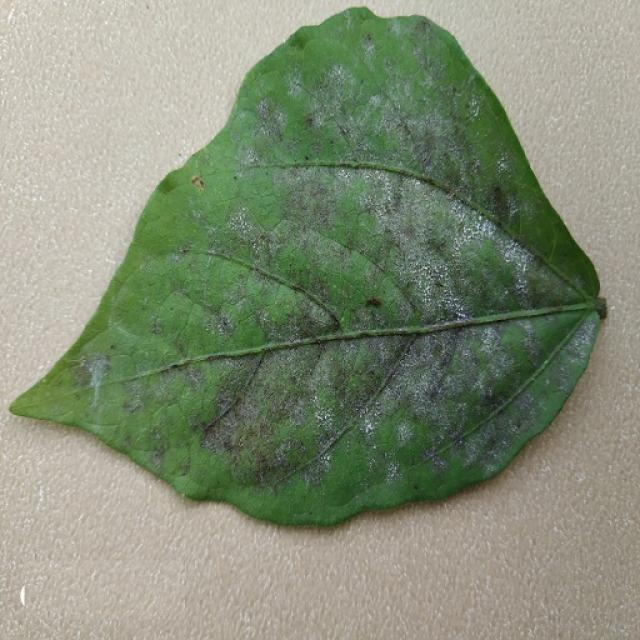Blackgram: (11, 9, 605, 524)
Powdery_Mildew: (381, 318, 540, 453), (299, 48, 470, 170), (434, 42, 552, 210), (109, 332, 252, 470), (263, 220, 396, 326), (129, 275, 254, 361), (128, 177, 240, 267), (264, 171, 381, 251), (290, 339, 386, 431), (405, 242, 509, 317), (433, 205, 516, 279), (396, 245, 472, 325), (303, 58, 377, 135), (96, 316, 166, 375), (238, 428, 313, 482), (258, 283, 326, 336), (278, 174, 338, 220), (381, 414, 435, 462), (345, 336, 394, 381), (494, 322, 537, 367), (252, 99, 290, 146), (320, 475, 365, 509), (430, 335, 461, 379), (269, 219, 302, 247), (409, 19, 436, 48), (72, 361, 98, 390), (427, 378, 448, 402), (428, 235, 449, 255), (361, 34, 378, 56), (121, 396, 141, 414), (151, 321, 164, 335)
